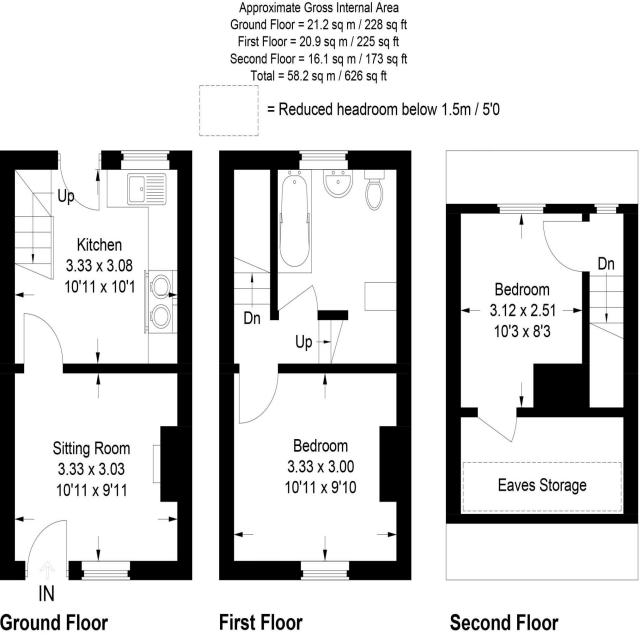DOOR: (23, 518, 70, 580), (56, 150, 103, 212), (540, 219, 590, 274), (22, 311, 65, 374), (238, 363, 280, 425), (277, 282, 319, 321), (477, 407, 518, 444)
ROOM: (0, 311, 193, 581), (0, 150, 193, 374), (218, 363, 412, 581), (445, 203, 590, 445)
WINDOW: (300, 560, 350, 581), (81, 560, 131, 581), (120, 150, 170, 170), (299, 150, 348, 170), (497, 203, 546, 214), (594, 203, 619, 214)
